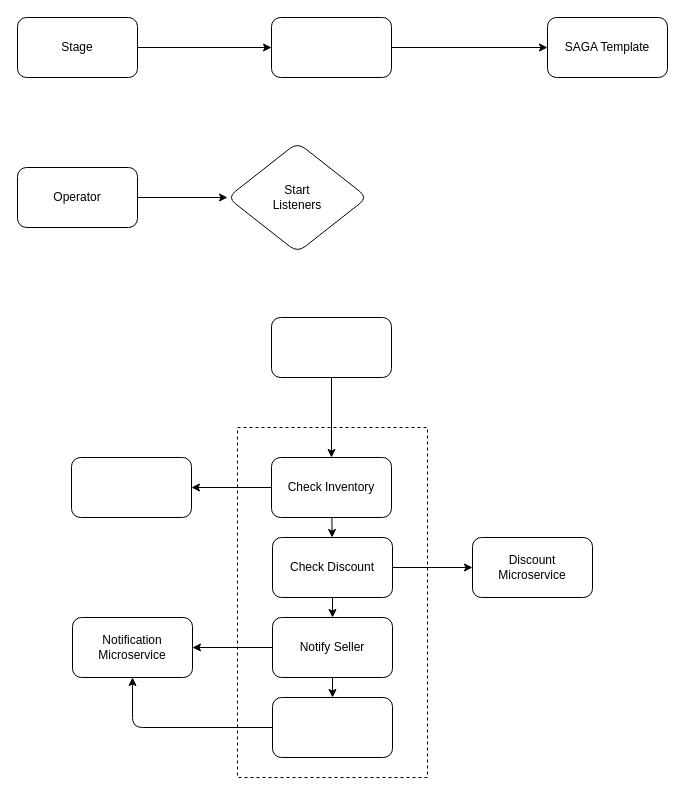
The diagram is 685 pixels wide and 795 high, and some of its shapes have lost their labels. Each missing label, with the centre of its shape:
"Inventory Microservice" goes at pixel 131 487.
"Notify Buyer" goes at pixel 332 727.
"OrderCreated" goes at pixel 331 347.
"SAGA" goes at pixel 331 47.
